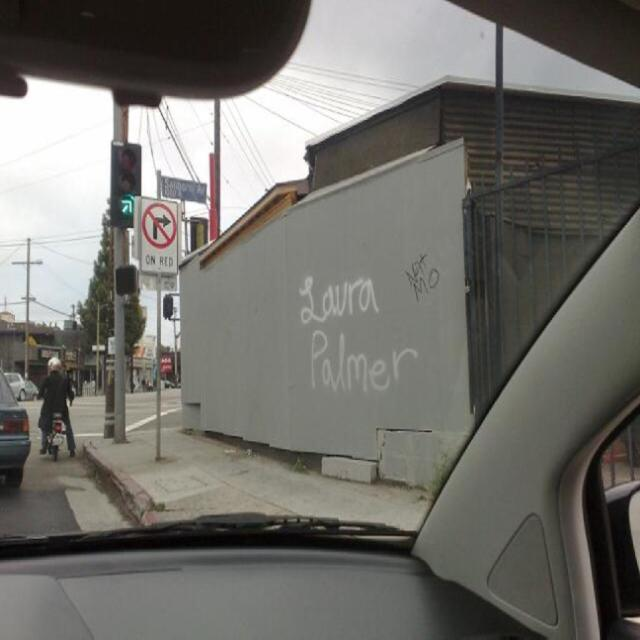car: (0, 364, 29, 486), (1, 368, 31, 402)
